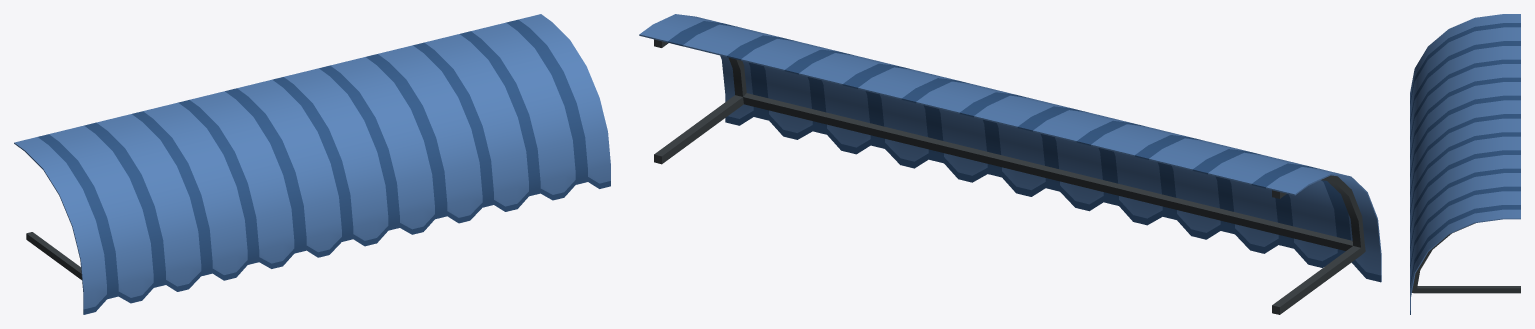
Rendered from SM_BuildingsDecor_38.fbx.
3 renders of one model, left to right at view 1: azimuth 30°, elevation 25°; view 2: azimuth 150°, elevation 25°; view 3: azimuth 270°, elevation 25°, orthographic. The views are drawn at different scales.
Visible parts, largest first — view 1: SM_BuildingsDecor_38; view 2: SM_BuildingsDecor_38; view 3: SM_BuildingsDecor_38.
Boxes of the visible parts, box(x1,y1,x2,y2) form: SM_BuildingsDecor_38: box(14, 14, 610, 314); SM_BuildingsDecor_38: box(639, 14, 1381, 314); SM_BuildingsDecor_38: box(1410, 14, 1520, 314).
Bounding box in the file's own units: 5 × 1.1 × 1.15.
